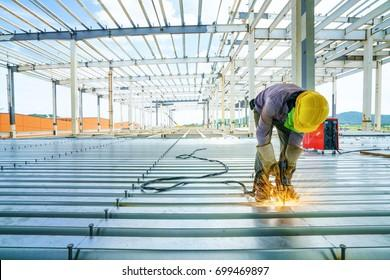gloves: (256, 143, 280, 177), (283, 143, 304, 180)
